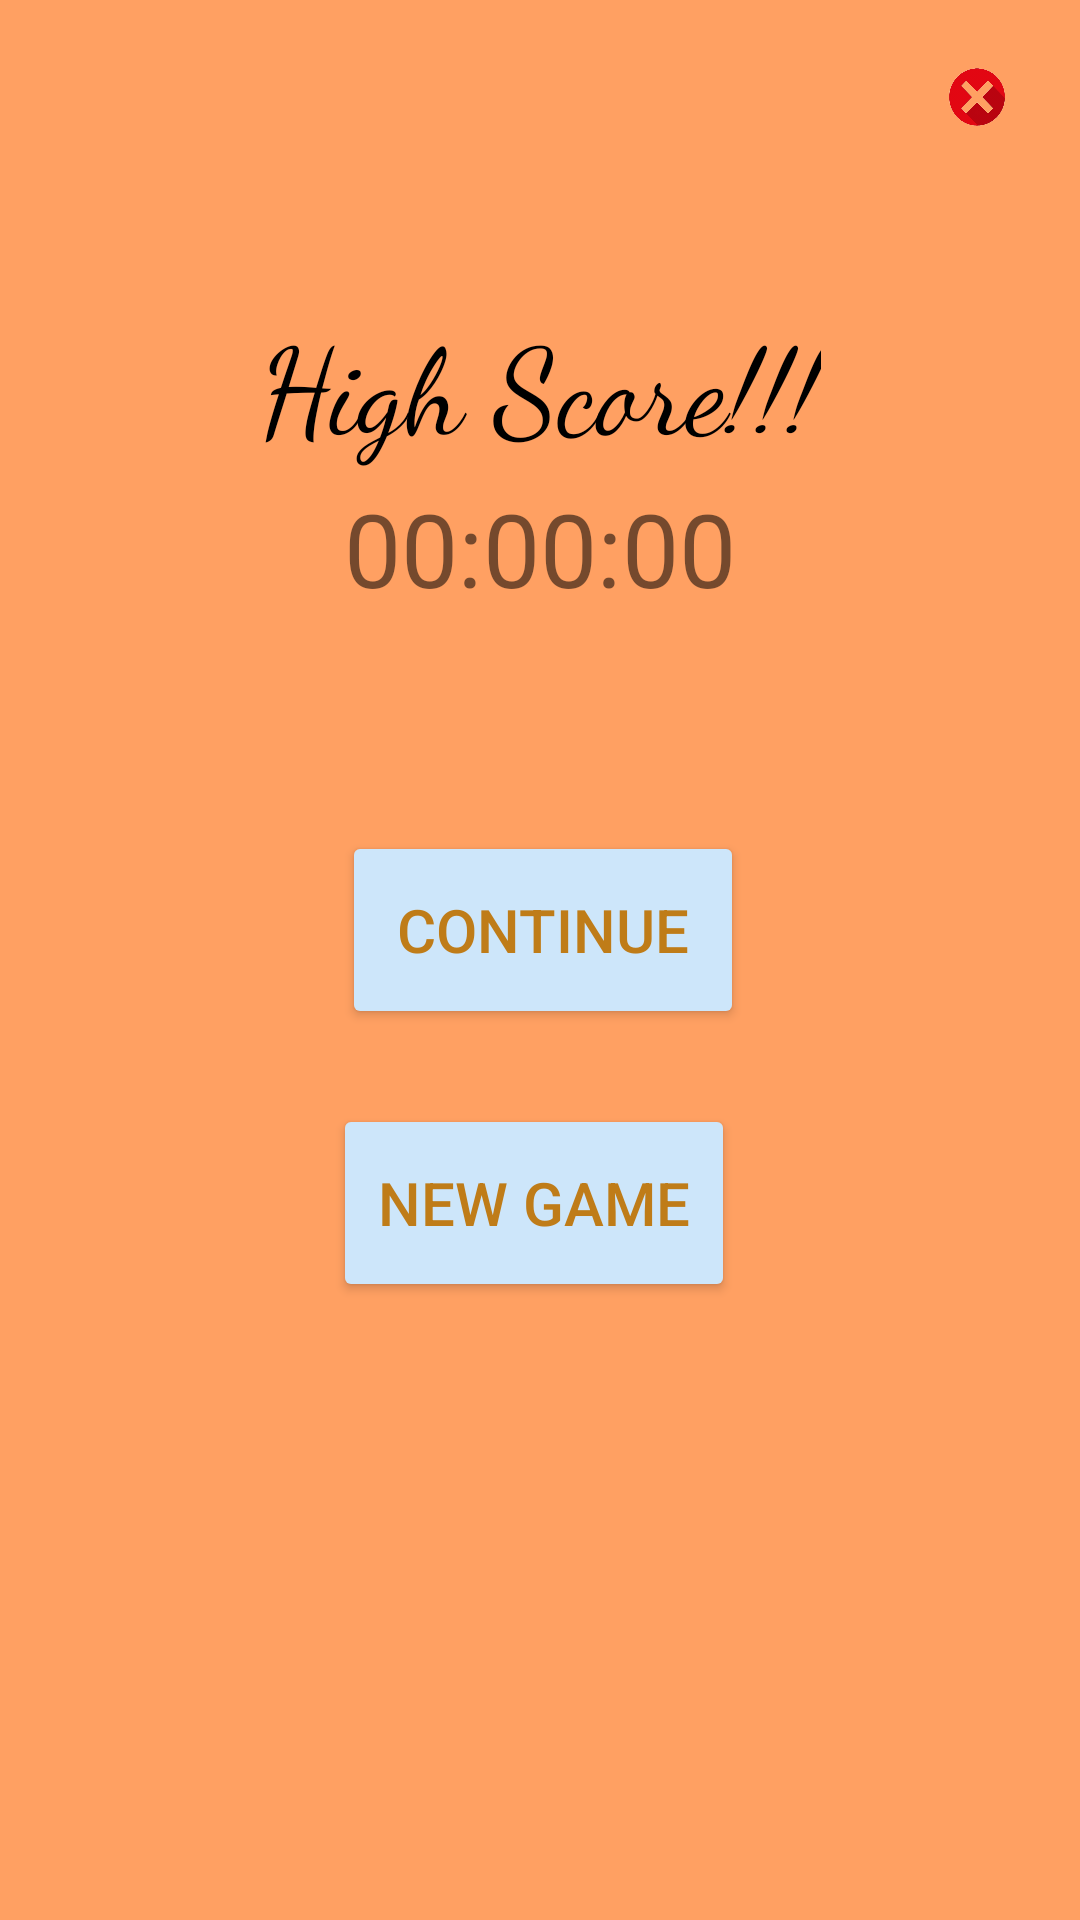

Locate icon controls on the screen. Image size 1080px×1920px, boxes as (x1, y1, x2, y2).
Exit Profile page and return to Home Menu: (949, 68, 1005, 126)
